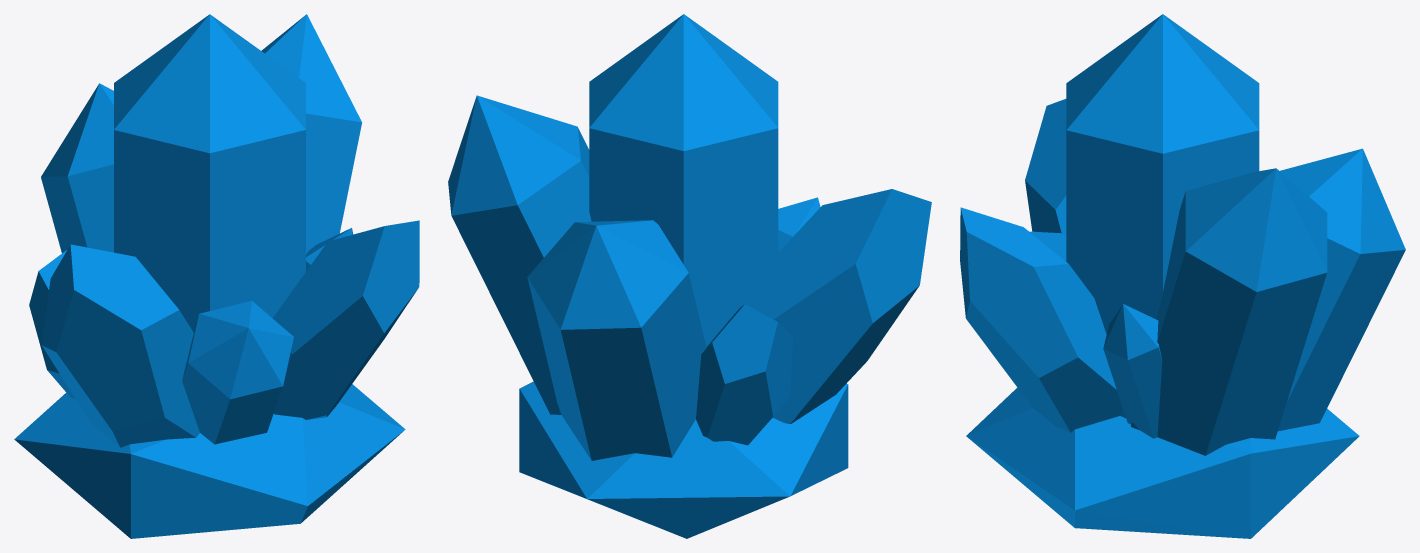
3 renders of one model, left to right at view 1: azimuth 30°, elevation 25°; view 2: azimuth 150°, elevation 25°; view 3: azimuth 270°, elevation 25°, orthographic.
Visible parts, largest first — view 1: sapphire; view 2: sapphire; view 3: sapphire.
Boxes of the visible parts, x1,y1,x2,y2 form: sapphire: [14, 14, 419, 538]; sapphire: [448, 14, 931, 538]; sapphire: [960, 14, 1405, 538].
Size of the model in its own units: 186 by 223 by 184.
